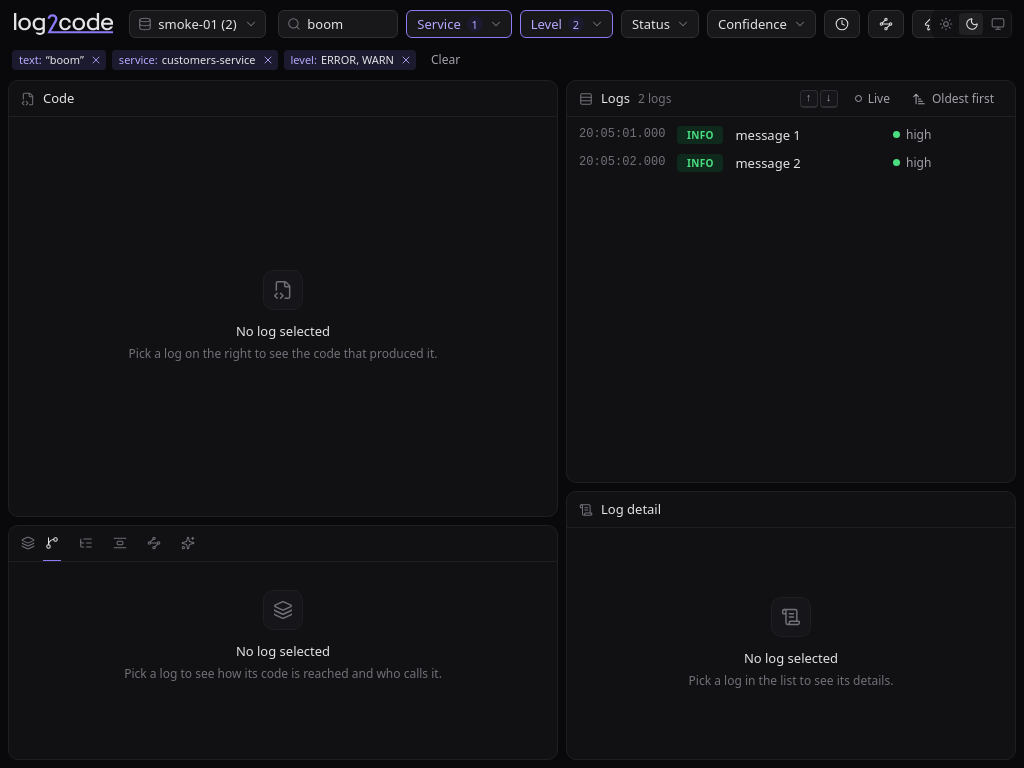
Test: filter bar › active filters are chips; removing one or Clear keeps dataset and sort order
Expected: the text "ERROR, WARN" is shown, [321,52,394,68]
Expected: the text "customers-service" is shown, [162,52,256,68]
What coordinates should you click on to do the following:
click the button named "Remove level filter"
I would click on:
 (406, 60)
Its box is [398,52,414,68].
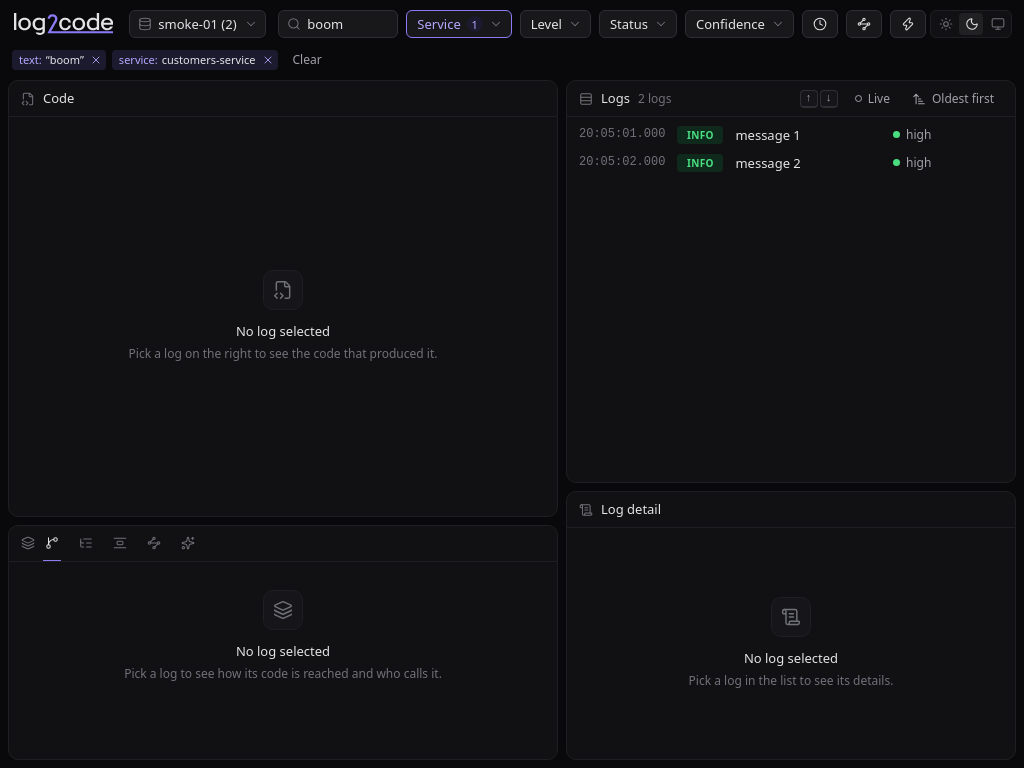
Expected: the text "customers-service" is shown, [162,52,256,68]
What coordinates should you click on to do the following:
click the button "Clear"
I would click on:
 (307, 60)
Its box is [284,48,331,72].
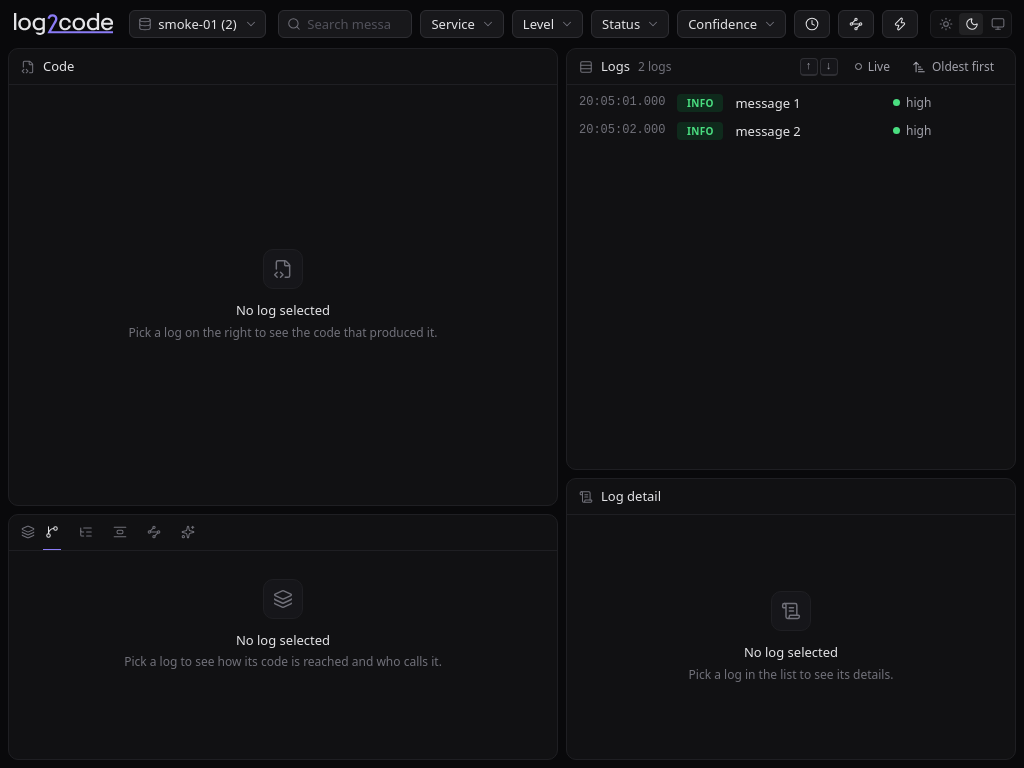
Now the search field is empty, box [278,10,412,38]
